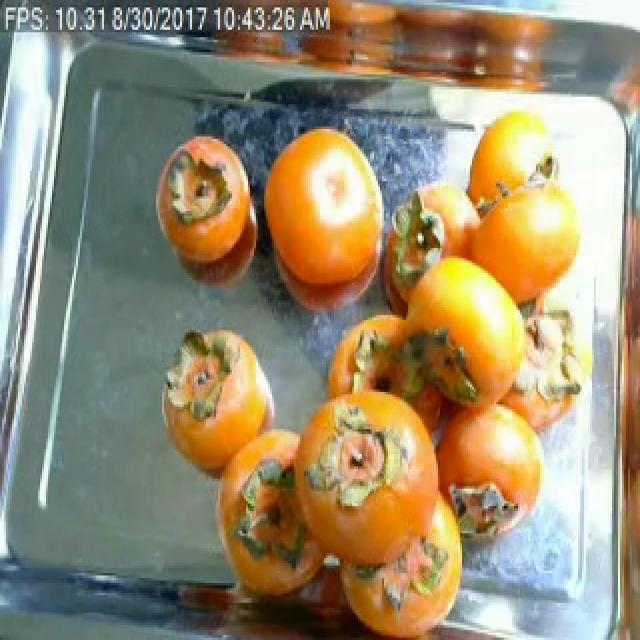Fruit: (250, 107, 394, 332), (154, 313, 292, 491), (144, 121, 268, 302)
